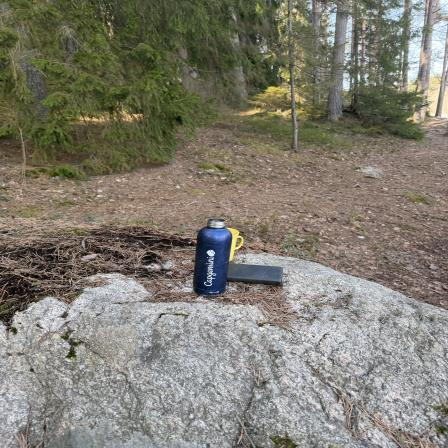blue_bottle: (196, 216, 227, 296)
phone: (218, 257, 288, 287)
yellow_cup: (225, 227, 245, 262)
